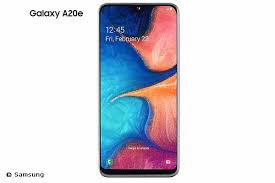Smartphone: (95, 3, 179, 177)
